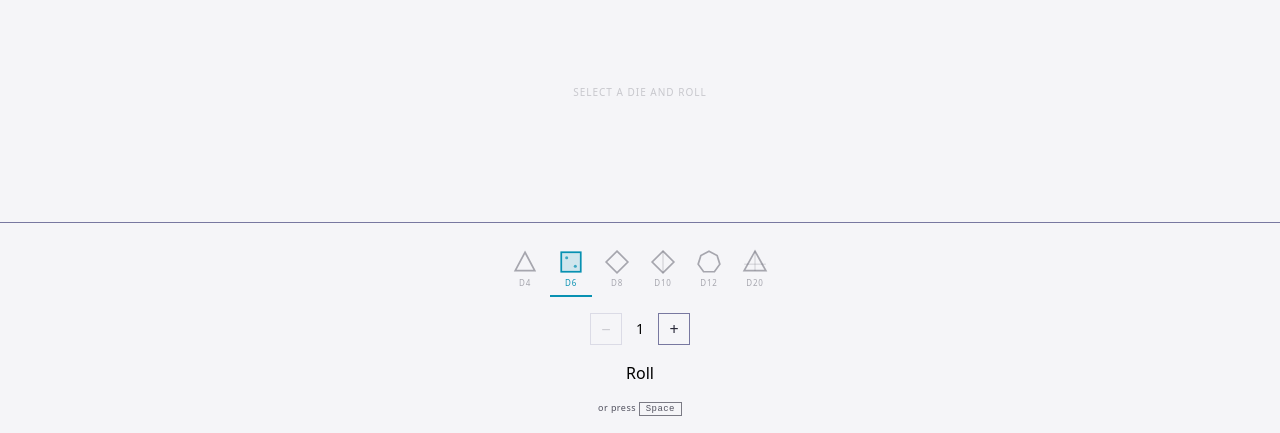
Scenario: DiceRoller › die type selection › clears previous result when die type changes
The image size is (1280, 433).
What coordinates should you click on to do the following:
click the button "Roll"
I would click on:
 (640, 373)
Its box is [626,361,654,385].
Wait 1100 ms
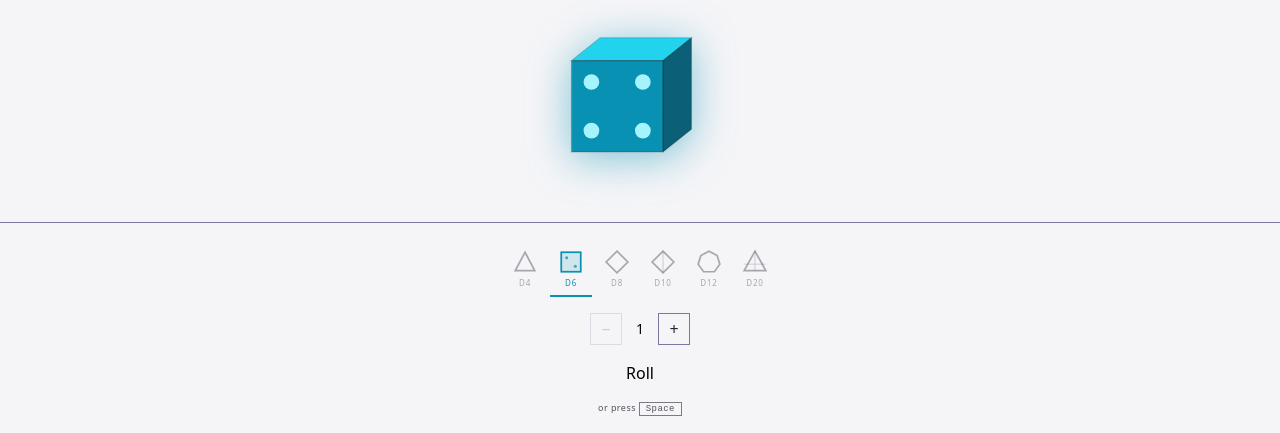
What coordinates should you click on to do the following:
click the button "D20"
I would click on:
 (755, 270)
Its box is [734,243,776,297].
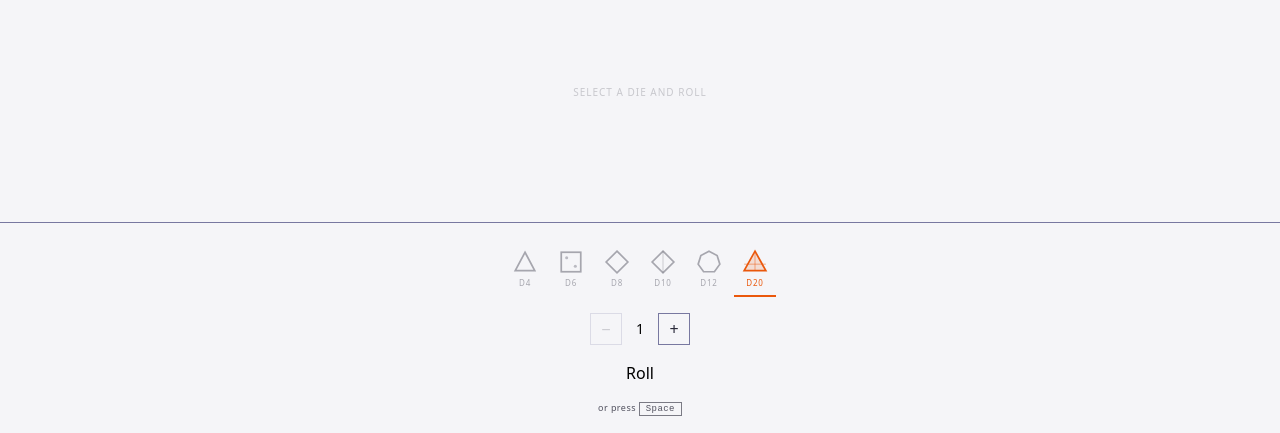
Check: the text "Select a die and roll" is shown, box [573,84,707,100]
